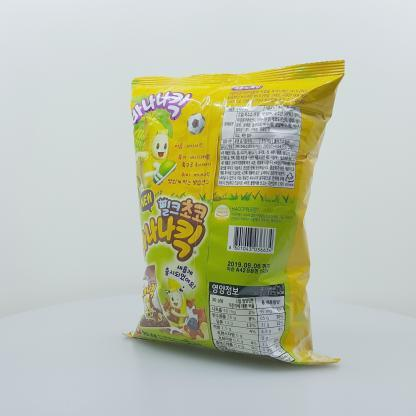Plastic Packaging: (119, 53, 361, 378)
